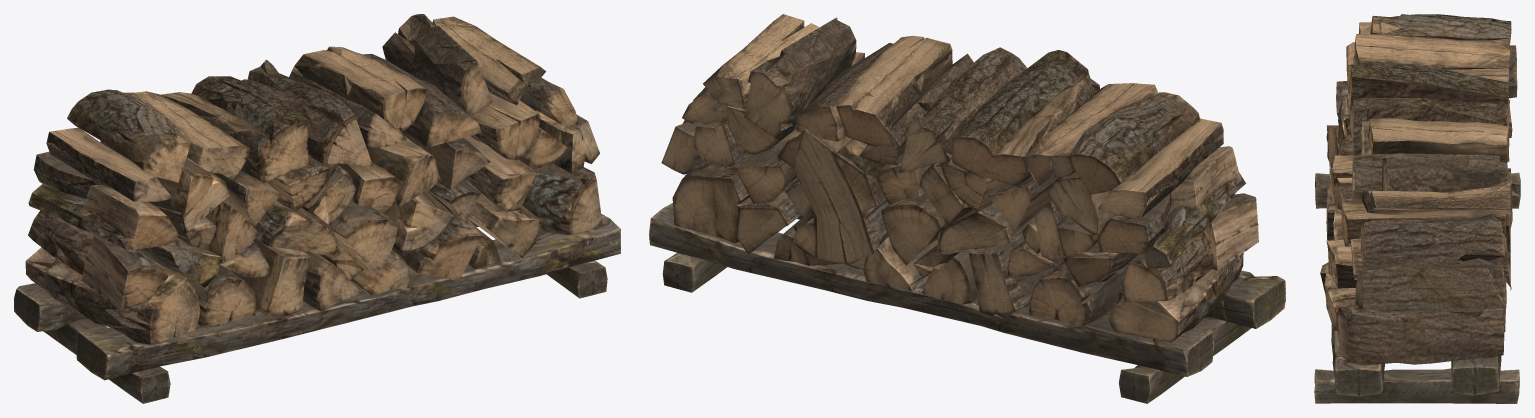
The model's file is firewood.glb.
3 renders of one model, left to right at view 1: azimuth 30°, elevation 25°; view 2: azimuth 150°, elevation 25°; view 3: azimuth 270°, elevation 25°, orthographic. The views are drawn at different scales.
Bounding box in the file's own units: 1.9 × 0.8035 × 0.7177.
Materials: 1 (1 with a texture image).
